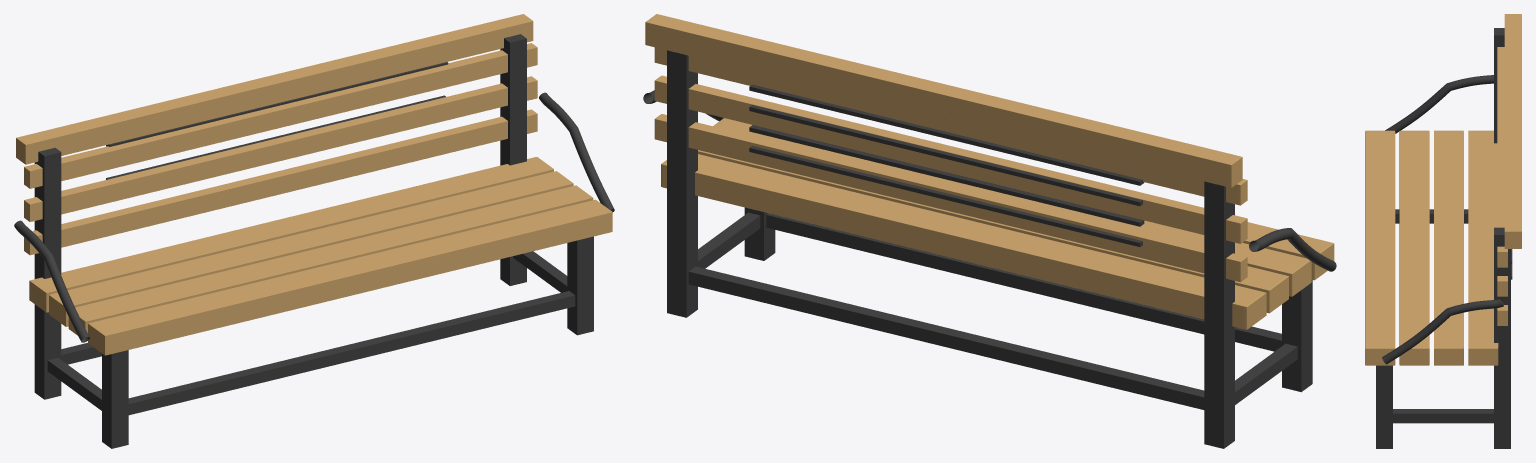
3 renders of one model, left to right at view 1: azimuth 30°, elevation 25°; view 2: azimuth 150°, elevation 25°; view 3: azimuth 270°, elevation 25°, orthographic. The views are drawn at different scales.
Visible parts, largest first — view 1: Cube, Cube.004, Cube.006, Cube.005, Cube.007, Cube.002, Cube.003, Cube.001, Cube.012, Cube.010, Cube.011, Cube.008 (+8 smaller); view 2: Cube.003, Cube.004, Cube.006, Cube.005, Cube.013, Cube.007, Cube.012, Cube.010, Cube.011, Cube.001, Cube.002, Cube.017 (+9 smaller); view 3: Cube, Cube.001, Cube.002, Cube.003, Cube.004, Cube.011, Cube.007, Cube.015, Cube.009, BézierCurve.001, BézierCurve, Cube.010 (+3 smaller).
Part boxes in pixels (x1,y1,x2,y2): Cube: (88,199,612,355); Cube.004: (16,14,533,164); Cube.006: (24,76,537,221); Cube.005: (24,109,537,255); Cube.007: (24,43,537,188); Cube.002: (49,171,573,326); Cube.003: (29,157,553,312); Cube.001: (68,185,593,335); Cube.012: (128,291,575,415); Cube.010: (34,147,61,399); Cube.011: (500,34,526,285); Cube.008: (102,350,128,448); Cube.003: (661,154,1266,329); Cube.004: (645,14,1242,187); Cube.006: (654,75,1247,243); Cube.005: (654,114,1247,282); Cube.013: (688,266,1204,409); Cube.007: (654,47,1247,205); Cube.012: (766,213,1281,351); Cube.010: (1204,181,1234,448); Cube.011: (667,50,697,317); Cube.001: (713,118,1311,296); Cube.002: (698,150,1288,313); Cube.017: (749,125,1144,226); Cube: (1365,130,1395,365); Cube.001: (1399,130,1429,365); Cube.002: (1434,130,1463,365); Cube.003: (1468,130,1498,365); Cube.004: (1504,14,1521,248); Cube.011: (1494,227,1510,448); Cube.007: (1497,47,1507,267); Cube.015: (1393,409,1493,423); Cube.009: (1376,365,1392,448); BézierCurve.001: (1382,298,1503,364); BézierCurve: (1385,75,1493,133); Cube.010: (1494,28,1504,143).
Size of the model in its own units: 2.52 by 1.15 by 0.73.
